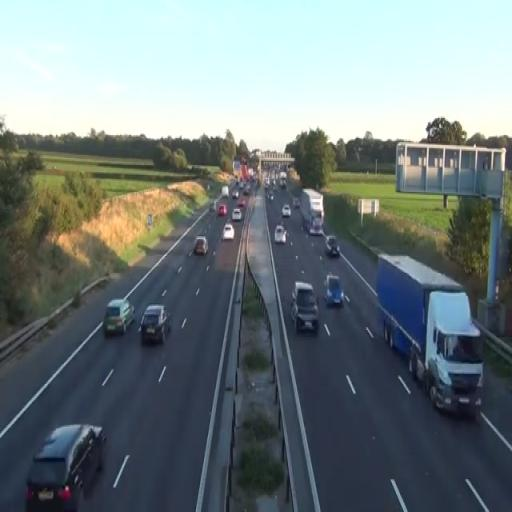Car: (24, 423, 107, 511), (290, 281, 319, 333), (140, 304, 171, 346), (103, 297, 135, 336), (324, 272, 344, 308), (325, 234, 340, 258), (194, 236, 208, 256), (274, 224, 287, 244), (223, 224, 234, 240), (232, 208, 242, 222), (282, 204, 291, 218)
Truck: (375, 252, 485, 420), (300, 188, 324, 236)
